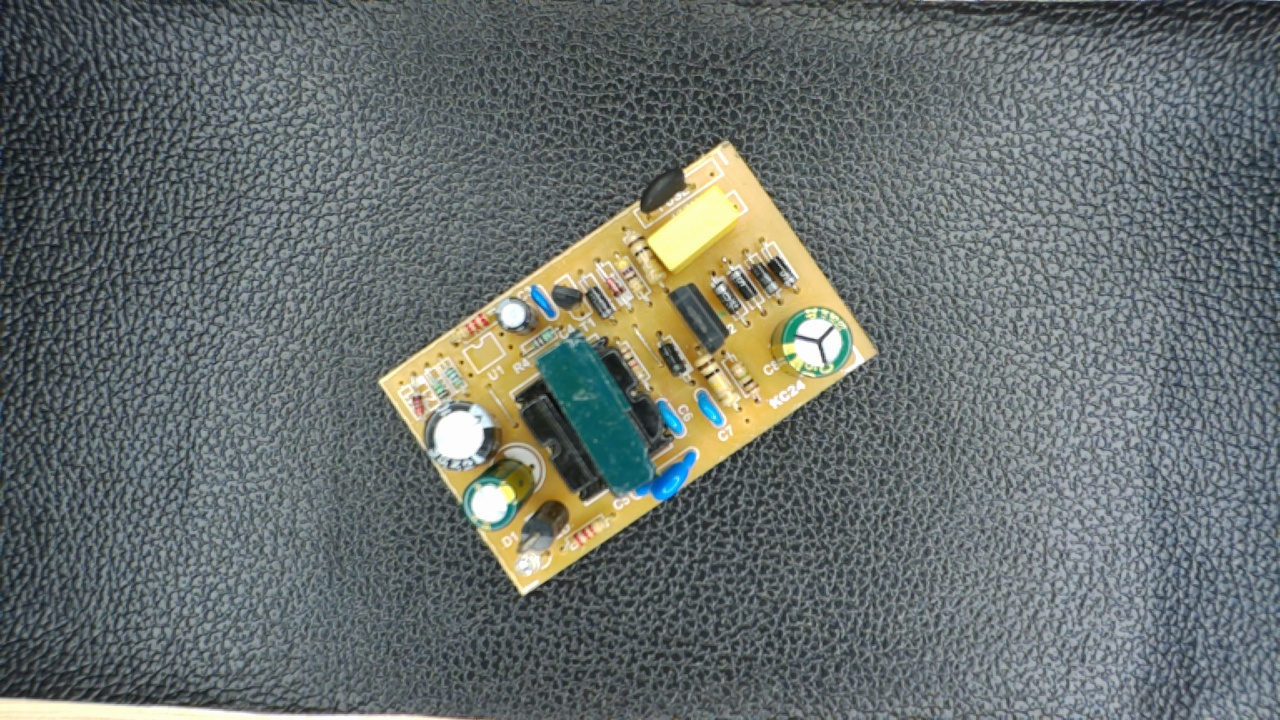fuse: (627, 167, 701, 227)
hv_capacitor: (774, 306, 852, 384)
mov: (629, 449, 702, 506)
